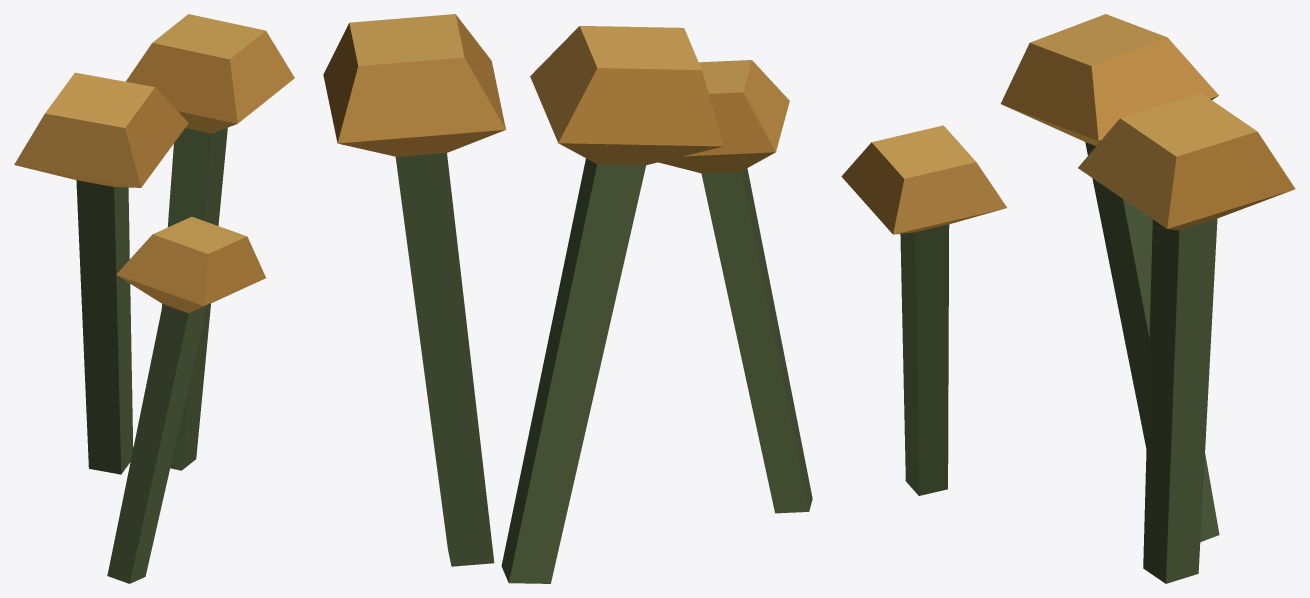
Rendered from NoCollisionMore_SF_Env_Elven_Flower_03.fbx.
3 views of the same model, side by side, from view 1: azimuth 30°, elevation 25°; view 2: azimuth 150°, elevation 25°; view 3: azimuth 270°, elevation 25° (orthographic). The views are drawn at different scales.
Visible parts, largest first — view 1: SF_Env_Elven_Flower_03; view 2: SF_Env_Elven_Flower_03; view 3: SF_Env_Elven_Flower_03.
Boxes of the visible parts, <box> form: SF_Env_Elven_Flower_03: <box>14,14,294,583</box>; SF_Env_Elven_Flower_03: <box>323,14,812,583</box>; SF_Env_Elven_Flower_03: <box>841,14,1295,583</box>.
Size of the model in its own units: 66.71 by 88.15 by 75.67.
